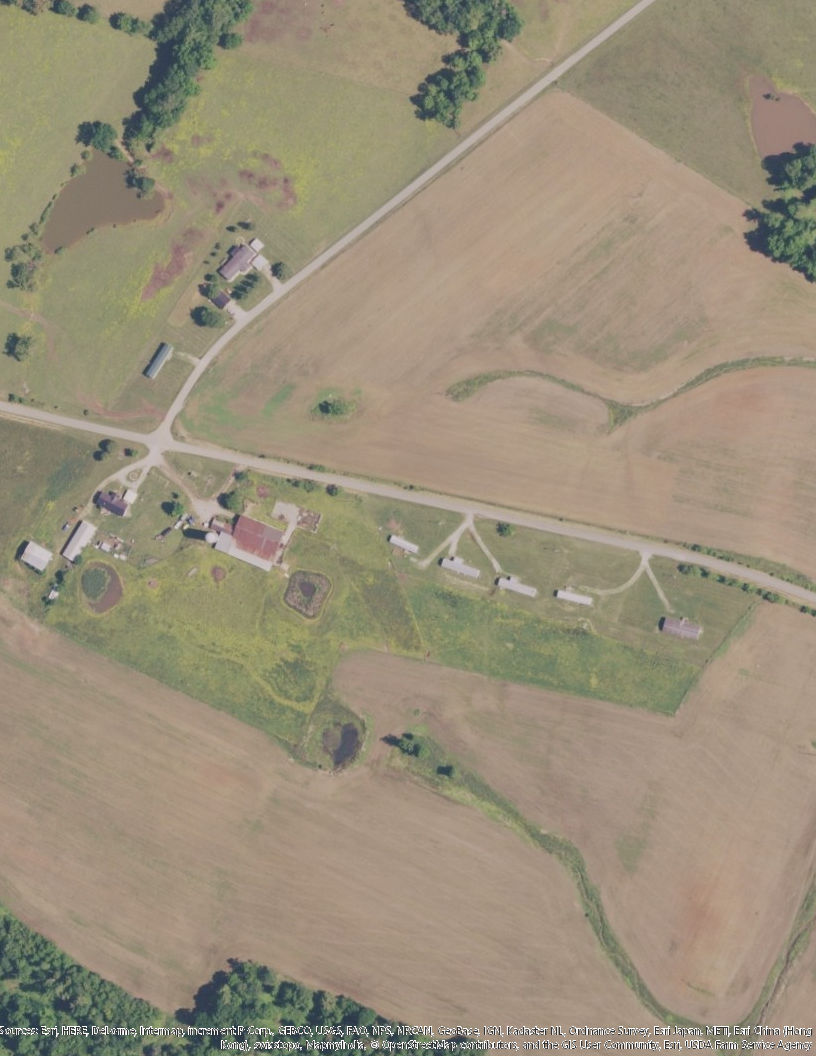cafo: (206, 509, 292, 571), (59, 519, 97, 563), (493, 570, 539, 600), (439, 552, 484, 580), (553, 585, 596, 608), (389, 532, 421, 557)
